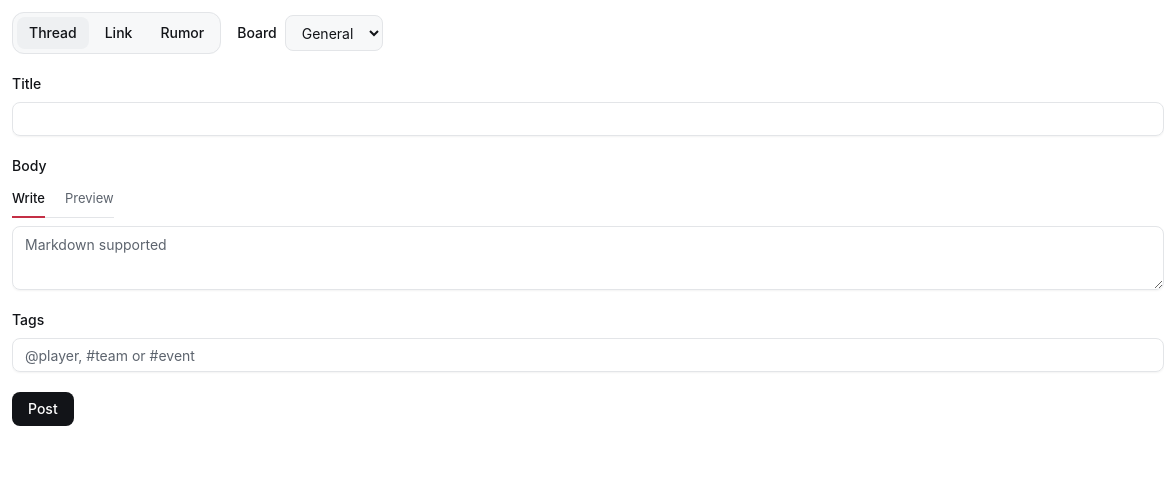
it: PostForm › shows API errors inline and keeps the form
In the field labelled "Title": x=588, y=119 [12,102,1164,136], type "A title"
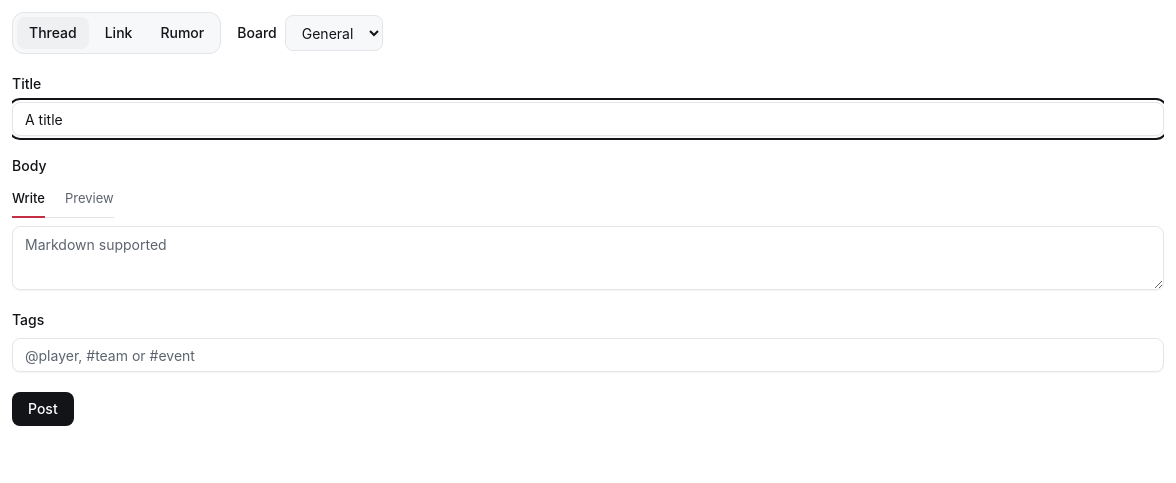
Click the button "Post": x=43, y=409 [12,392,74,426]
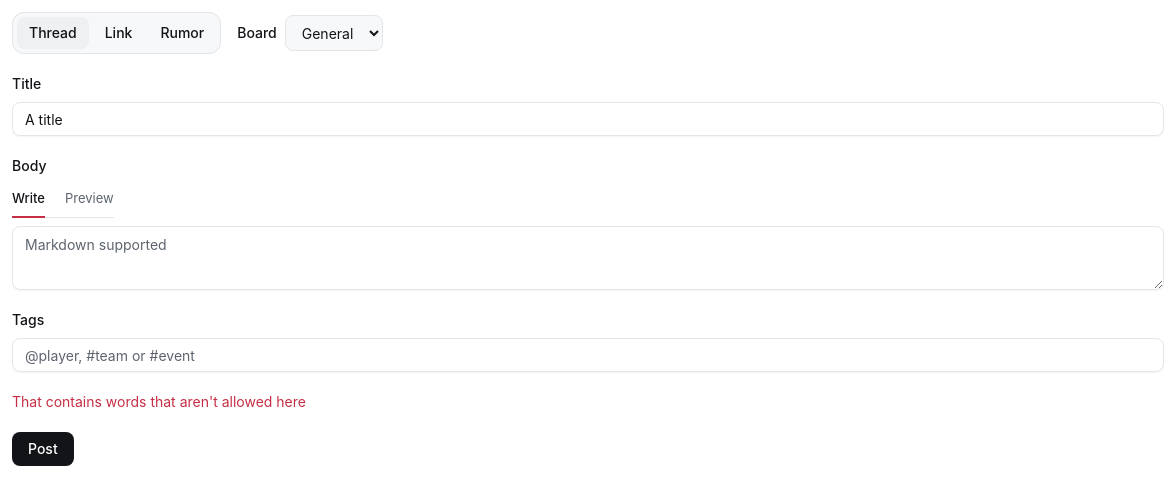
Expected: the button "Post" is enabled, [12,432,74,466]
Now the text "That contains words that aren't allowed here" is shown, box [12,393,306,410]
